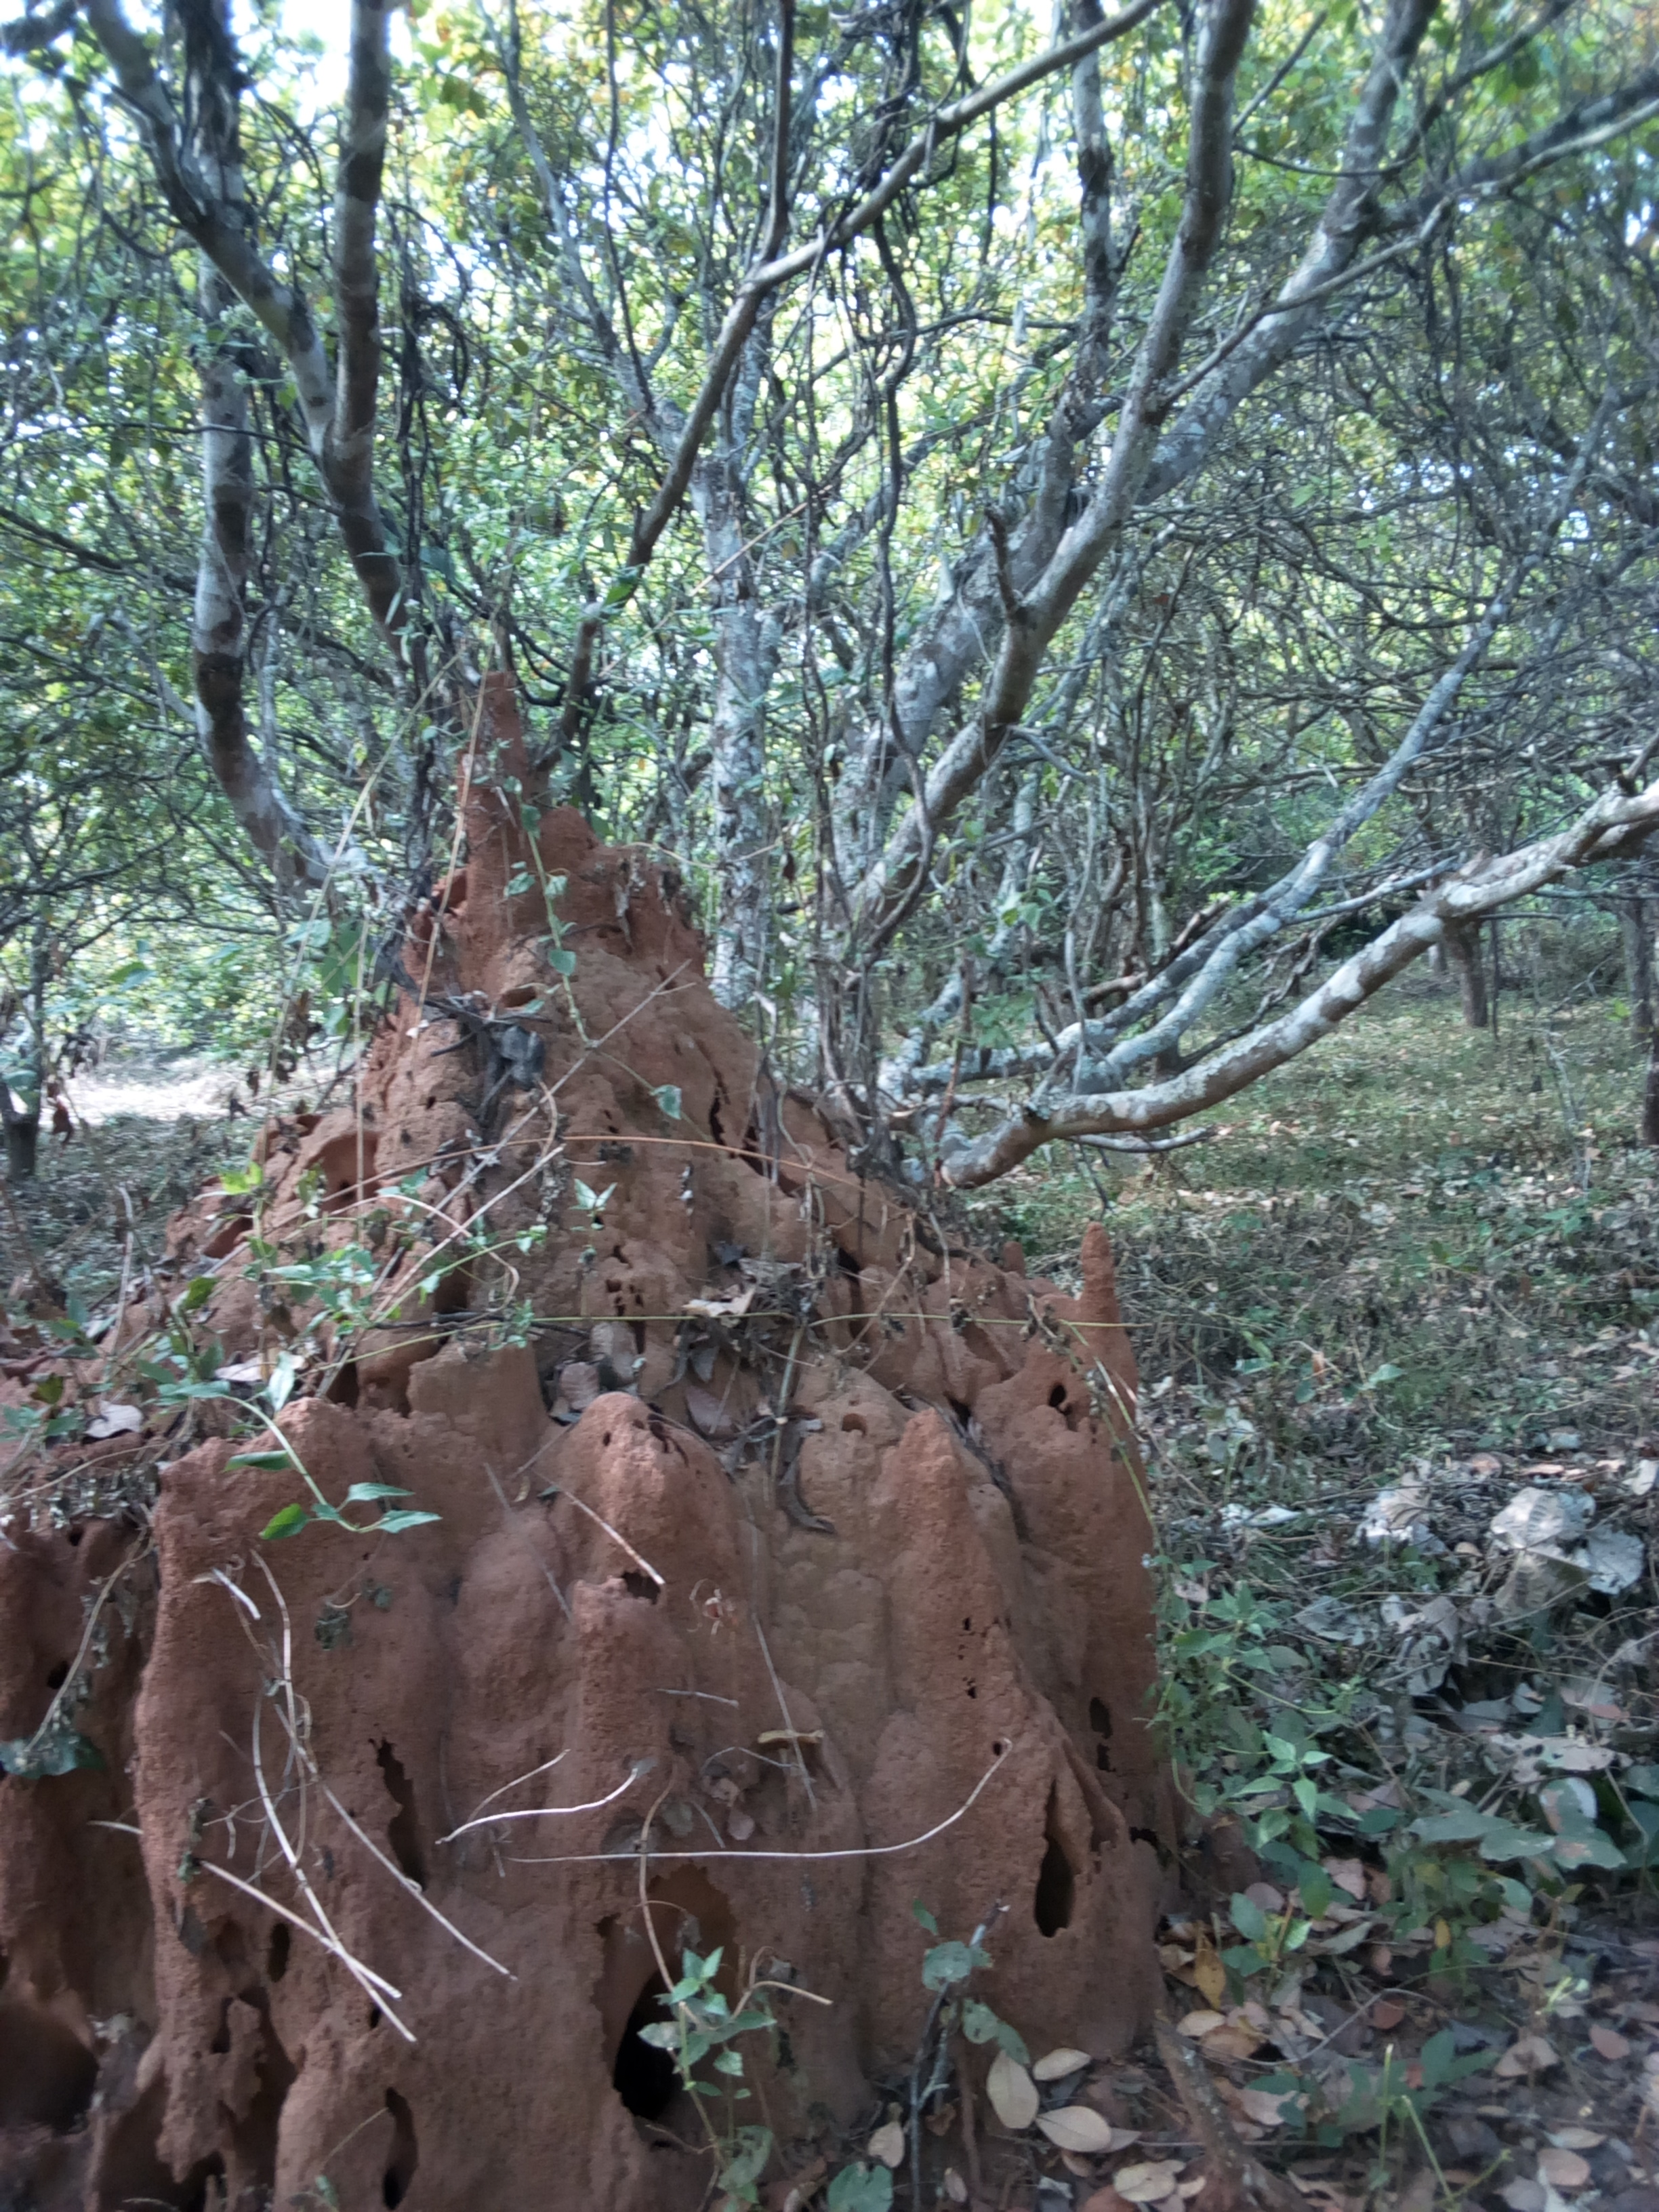Termites: (152, 1393, 1182, 2207), (427, 665, 769, 1378)
